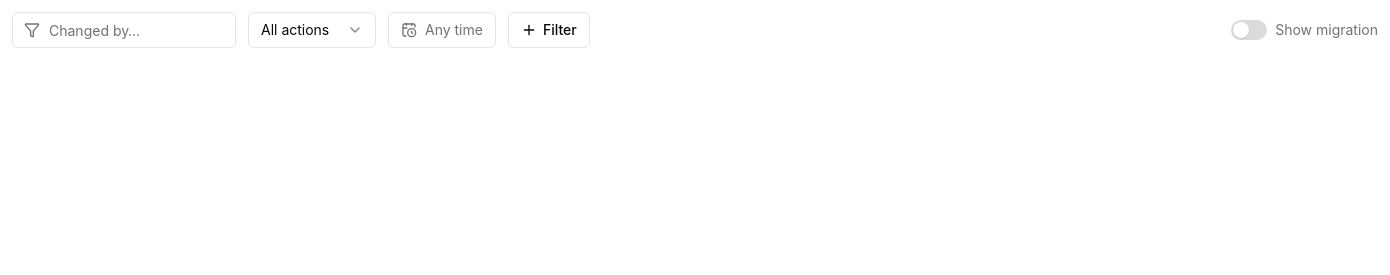
AuditLogFilters (B7.1.3) › exposes an action dropdown with CRUD/RENAME/MIGRATED plus All
The image size is (1390, 275).
Click the dropdown labelled "All actions".
click(312, 30)  # box [248,12,376,48]
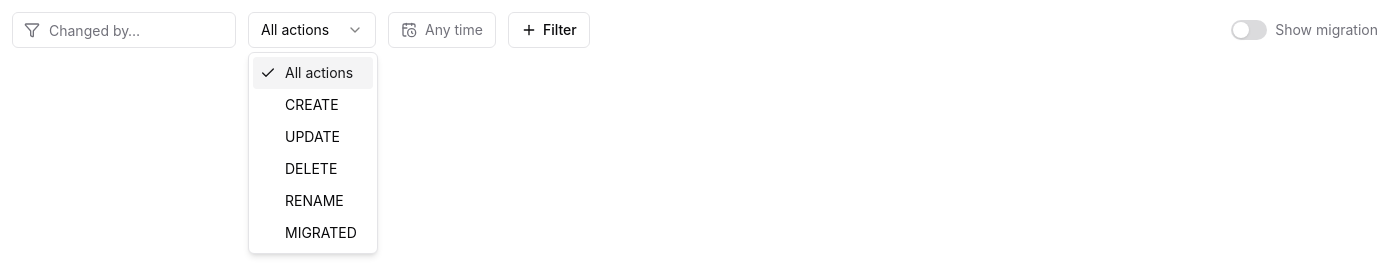
Check: the option "CREATE" is shown, box [285,96,339,113]
Check: the option "UPDATE" is shown, box [285,128,340,145]
Check: the option "DELETE" is shown, box [285,160,337,177]
